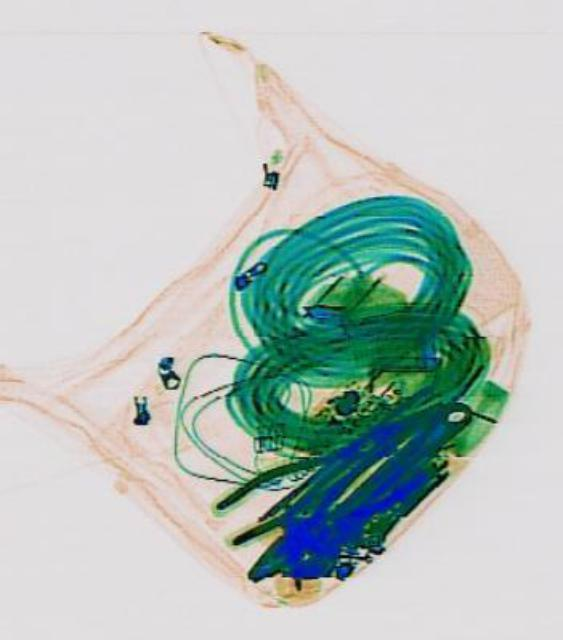Pliers: (229, 431, 424, 604), (207, 406, 398, 548)
Wrench: (259, 374, 482, 598)
